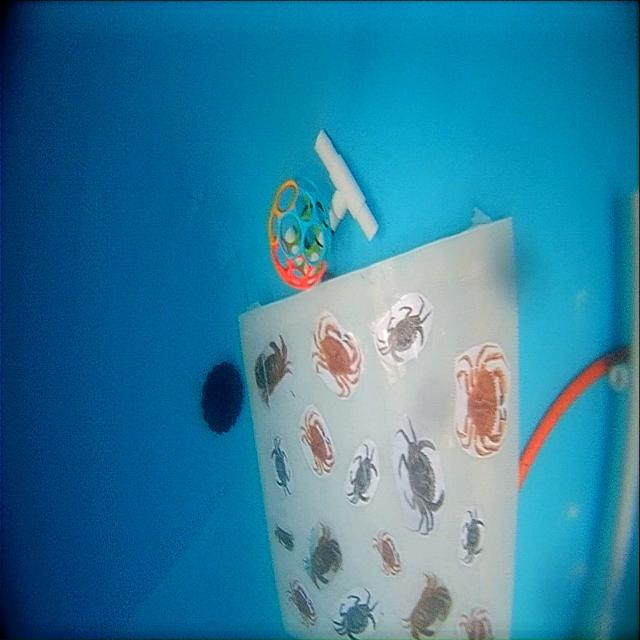GreenCrab: (396, 417, 444, 535), (376, 300, 432, 361), (333, 590, 377, 639), (347, 444, 379, 504), (462, 508, 484, 563), (271, 437, 290, 494)
